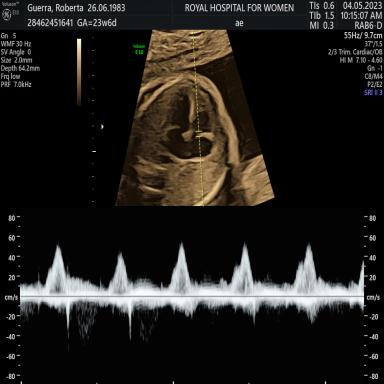Ultrasound-Waves: (25, 216, 363, 384)
